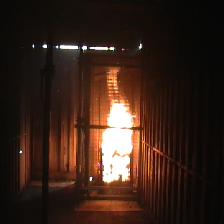fire_h: (102, 99, 133, 183), (106, 66, 120, 96)
